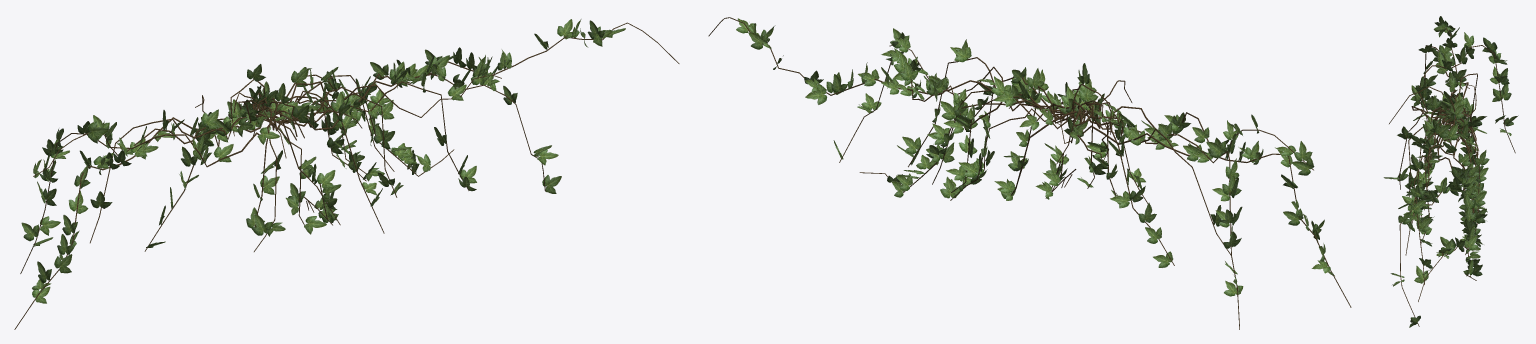
The model's file is SM_Ivy_wall_02.fbx.
3 views of the same model, side by side, from view 1: azimuth 30°, elevation 25°; view 2: azimuth 150°, elevation 25°; view 3: azimuth 270°, elevation 25° (orthographic). The views are drawn at different scales.
Visible parts, largest first — view 1: SM_Ivy_wall_02; view 2: SM_Ivy_wall_02; view 3: SM_Ivy_wall_02.
Boxes of the visible parts, x1,y1,x2,y2 form: SM_Ivy_wall_02: (14,19,679,329); SM_Ivy_wall_02: (708,17,1351,329); SM_Ivy_wall_02: (1383,16,1518,327).
Size of the model in its own units: 240 by 68.95 by 55.32.
